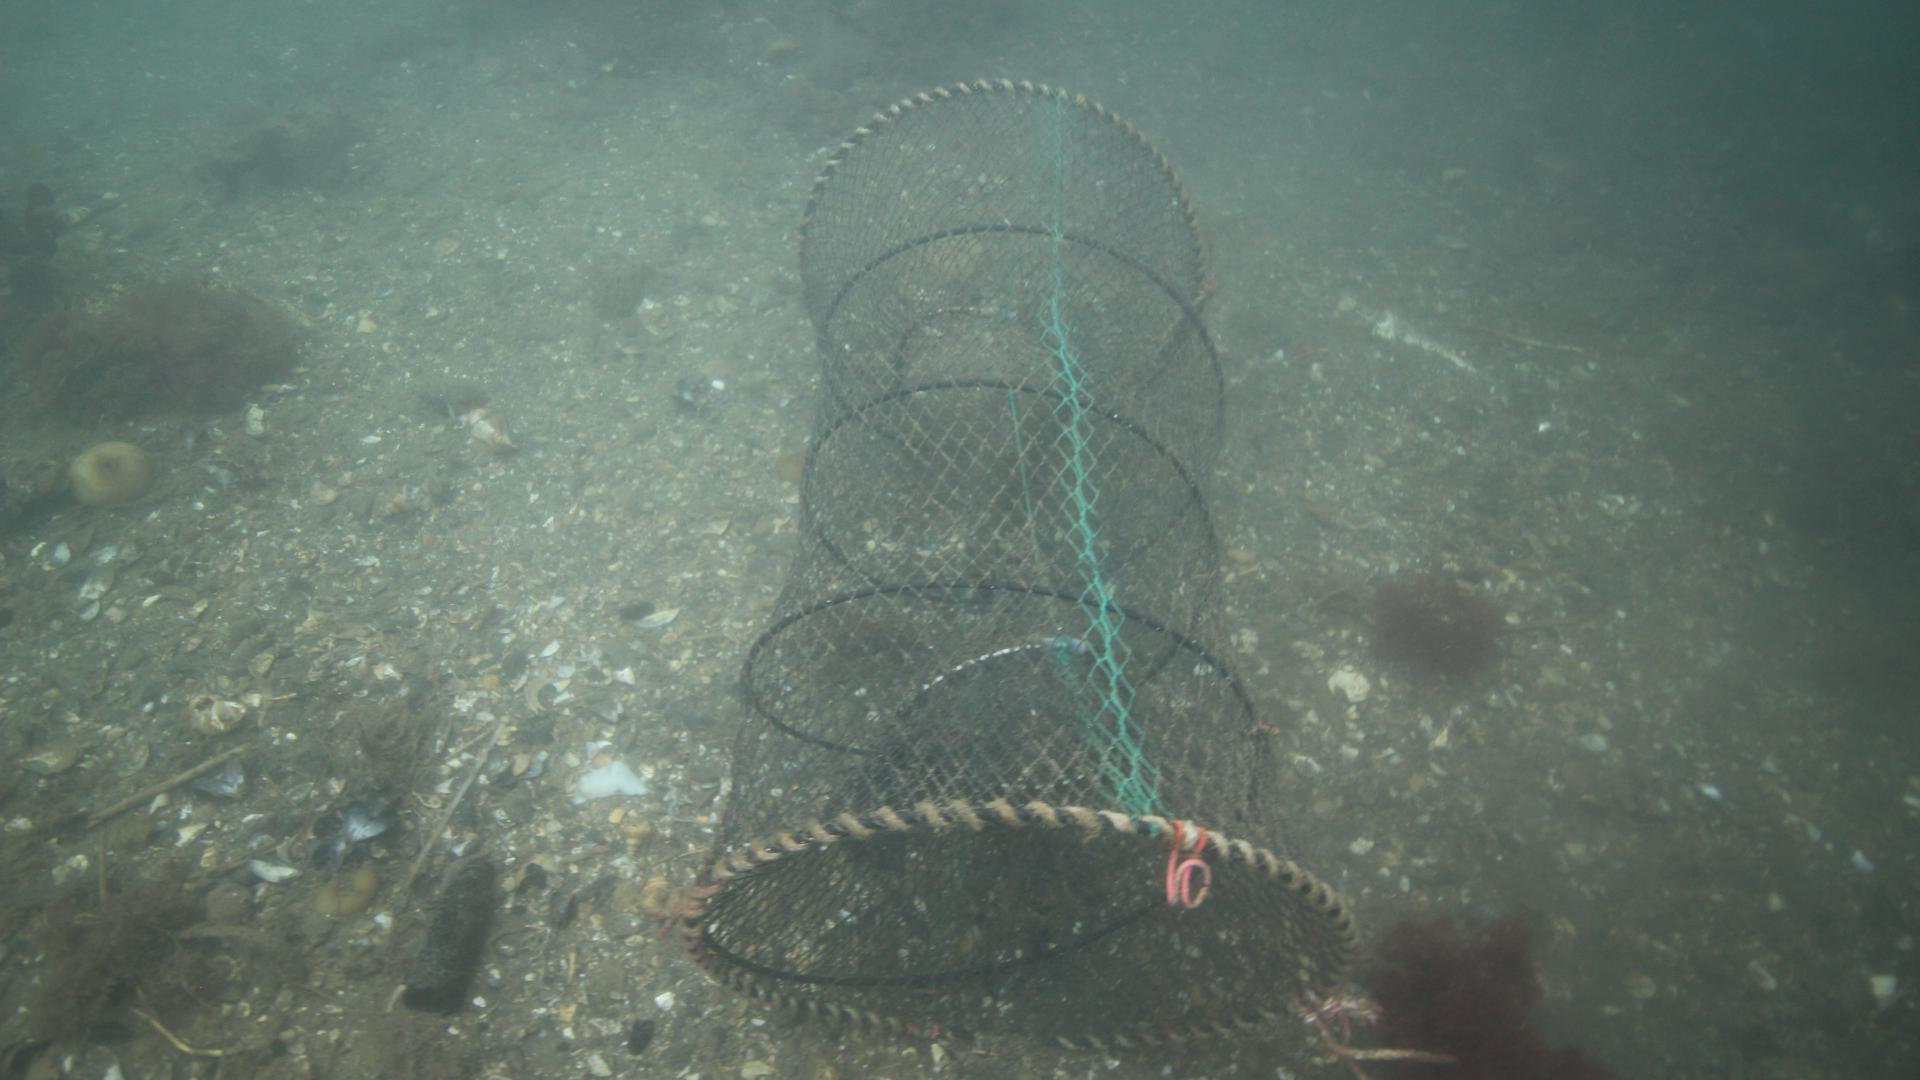spring fish trap: (680, 73, 1371, 1069)
